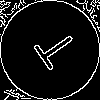T: (25, 25, 80, 77)
